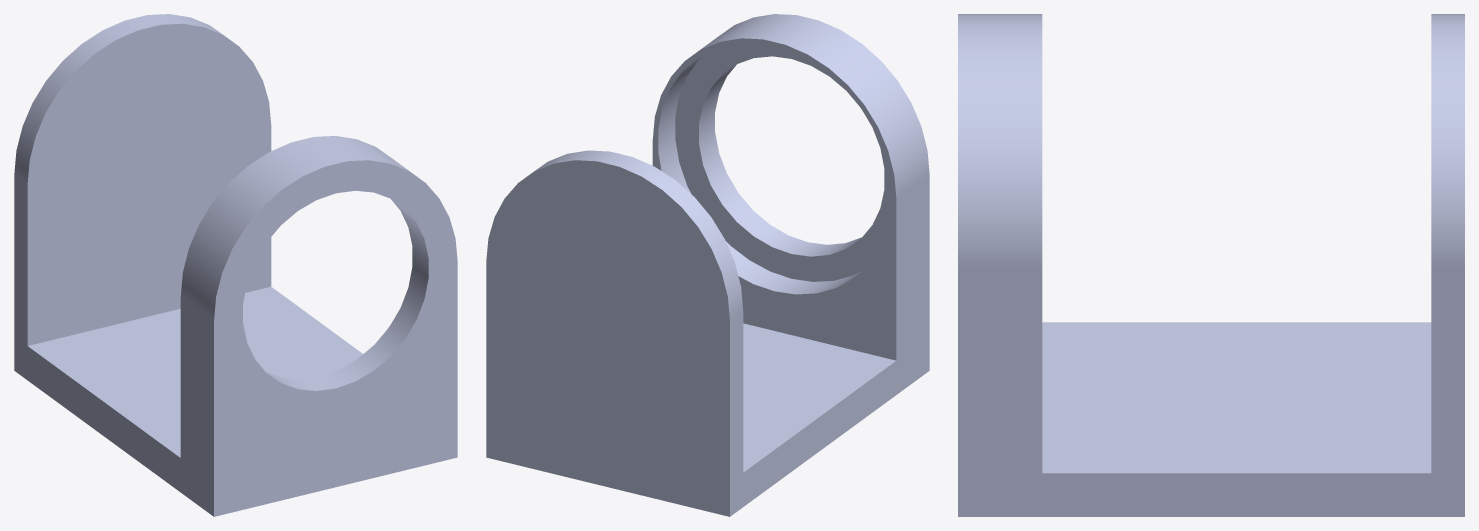
3 renders of one model, left to right at view 1: azimuth 30°, elevation 25°; view 2: azimuth 150°, elevation 25°; view 3: azimuth 270°, elevation 25°, orthographic. The views are drawn at different scales.
Visible parts, largest first — view 1: FBXASC060LINK1BFBXASC062-FBXASC060FBXASC195FBXASC135FBXASC19; view 2: FBXASC060LINK1BFBXASC062-FBXASC060FBXASC195FBXASC135FBXASC19; view 3: FBXASC060LINK1BFBXASC062-FBXASC060FBXASC195FBXASC135FBXASC19.
Boxes of the visible parts, x1,y1,x2,y2 form: FBXASC060LINK1BFBXASC062-FBXASC060FBXASC195FBXASC135FBXASC19: (14,14,457,516); FBXASC060LINK1BFBXASC062-FBXASC060FBXASC195FBXASC135FBXASC19: (486,14,929,516); FBXASC060LINK1BFBXASC062-FBXASC060FBXASC195FBXASC135FBXASC19: (958,14,1464,516).
Size of the model in its own units: 0.074 by 0.1051 by 0.0938.
